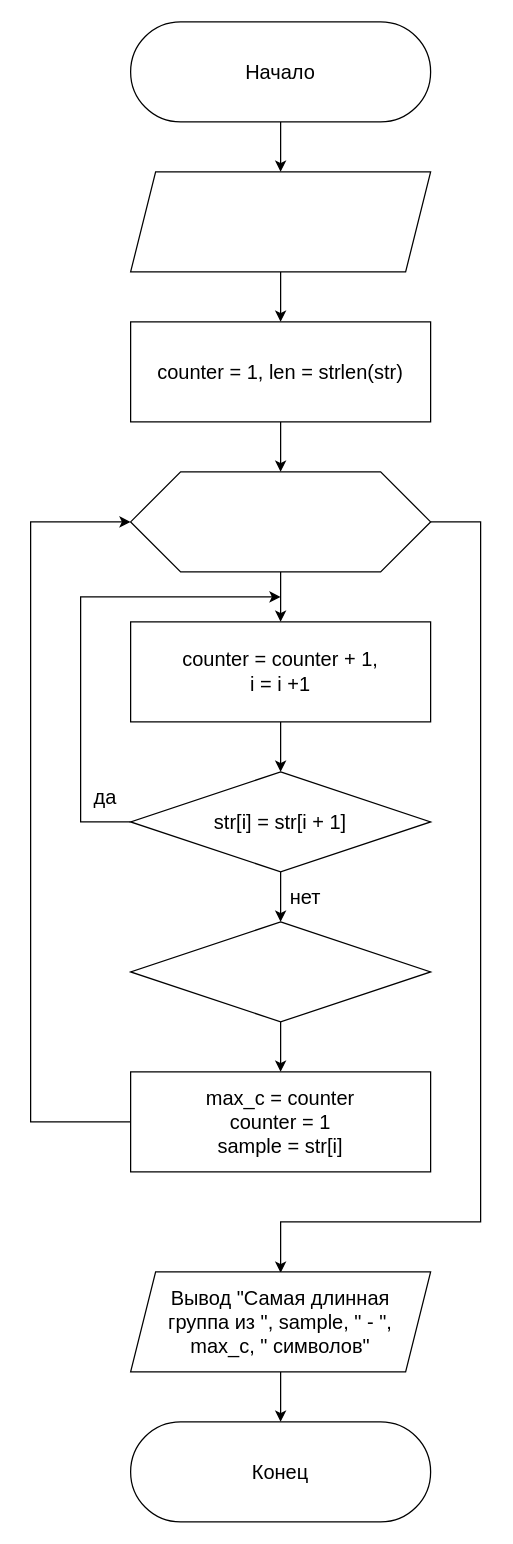
The diagram is 513 pixels wide and 1544 high, and some of its shapes have lost their labels. The shapes that lost their labels are listed below. From the top down, each one's box as (x1, y1, x2, y2) in pixels, then its label:
(129, 171, 431, 272): Ввод str[255], counter, max_c, len, sample, i
(129, 471, 431, 572): i = 0, len
(129, 921, 431, 1022): max_c < counter
